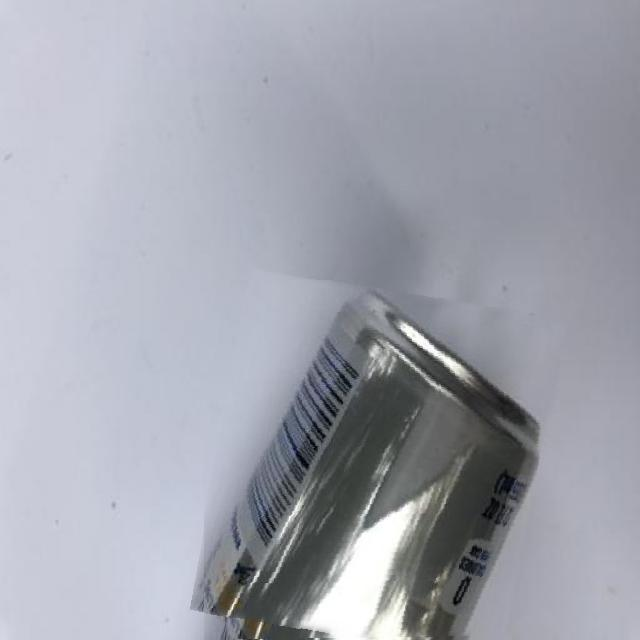recyclable: (204, 280, 553, 640)
